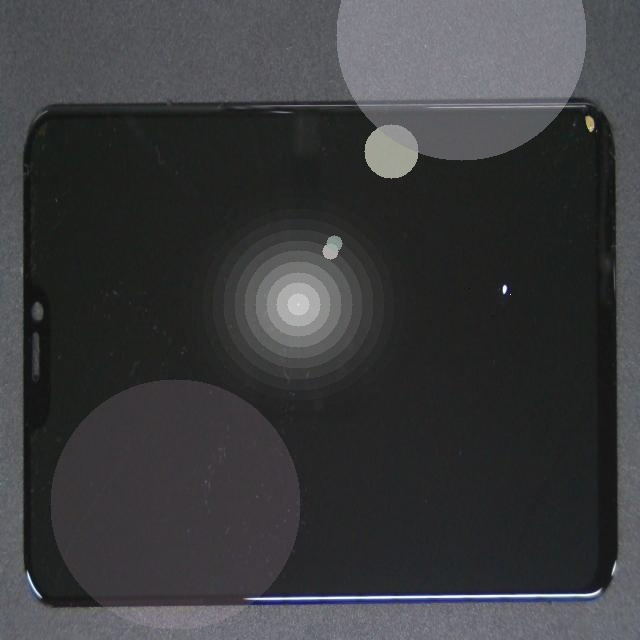stain: (213, 109, 640, 436)
